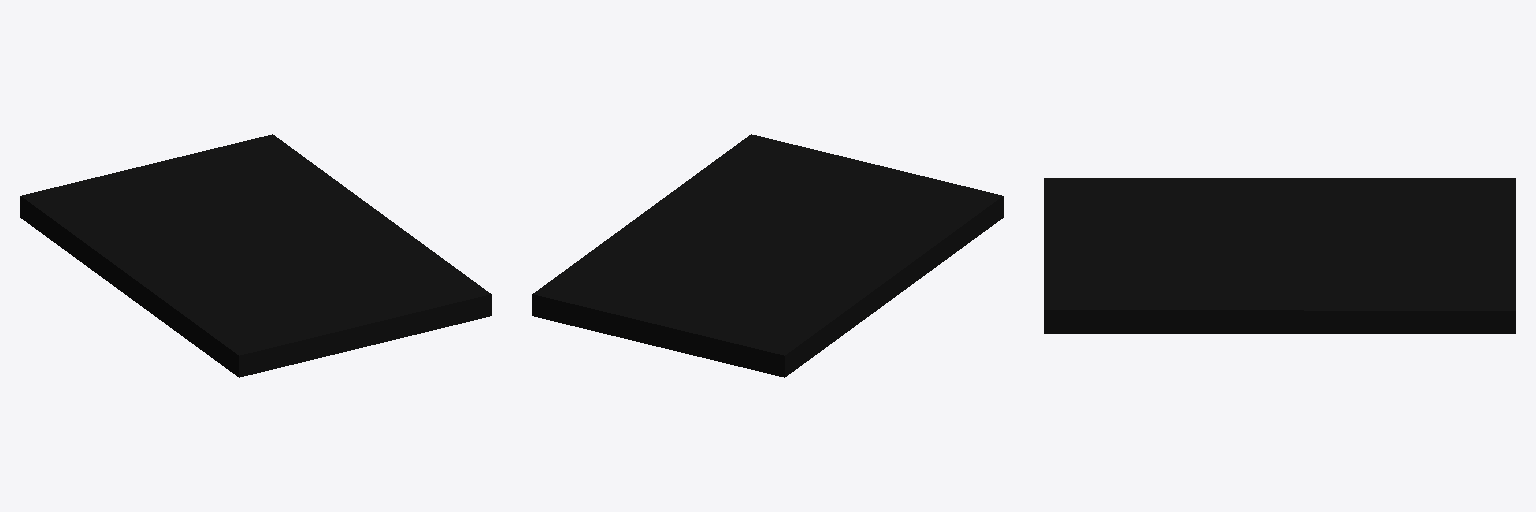
The robot description file, URDF, robot "ground":
<?xml version="1.0"?>

<robot name="ground">
  
  <material name="li">
    <color rgba="0.1 0.1 0.1 0.5"/>
  </material>

  <link name="base"/>

  <link name="lid">
    <collision>
       <origin xyz="0 0 .0" rpy="0 0 0"/>
      <geometry>
        <box size="1.2 0.1 1.8"/>
      </geometry>
    </collision>
    <visual>
      <origin xyz="0 0 .0" rpy="0 0 0"/>
      <geometry>
        <box size="1.2 0.1 1.8"/>
      </geometry>
      <material name="li"/>
    </visual>
  </link>

  <joint name="jlid" type="fixed">
    <origin rpy="1.5707 0 0" xyz="0 0 0"/>
    <parent link="base"/>
    <child link="lid"/>
  </joint>
</robot>

--- Facts derived from the render (not from the file) ---
3 views of the same robot in one strip: view 1: azimuth 30°, elevation 25°; view 2: azimuth 150°, elevation 25°; view 3: azimuth 270°, elevation 25° (orthographic).
Model ground with 2 links and 1 joints (1 fixed), rooted at base, posed all joints at 0.
Visible links, largest first — view 1: lid; view 2: lid; view 3: lid.
Link boxes in pixels (x1,y1,x2,y2): lid: (20, 134, 491, 377); lid: (532, 134, 1003, 377); lid: (1044, 178, 1515, 333).
Size in the robot's own frame: 1.2 by 1.8 by 0.1002 metres.
Geometry: primitives only (box / cylinder / sphere), no mesh files.
